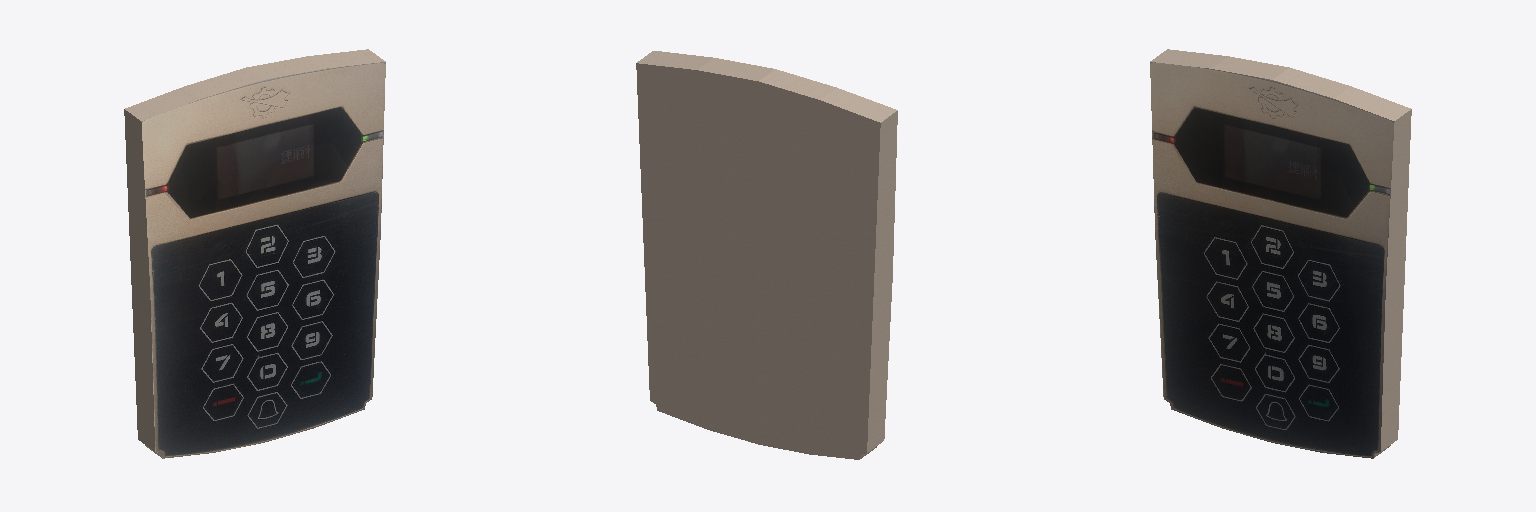
The picture shows the model from 3 angles: view 1: azimuth 30°, elevation 25°; view 2: azimuth 150°, elevation 25°; view 3: azimuth 330°, elevation 25°; orthographic projection.
Parts seen in each view (by area): view 1: mkjy_mj_001; view 2: mkjy_mj_001; view 3: mkjy_mj_001.
Boxes of the visible parts, <box> form: mkjy_mj_001: <box>124,49,385,458</box>; mkjy_mj_001: <box>636,51,897,459</box>; mkjy_mj_001: <box>1150,49,1411,458</box>.
Size of the model in its own units: 14.94 by 21.2 by 2.02.
1 materials, 1 textured.